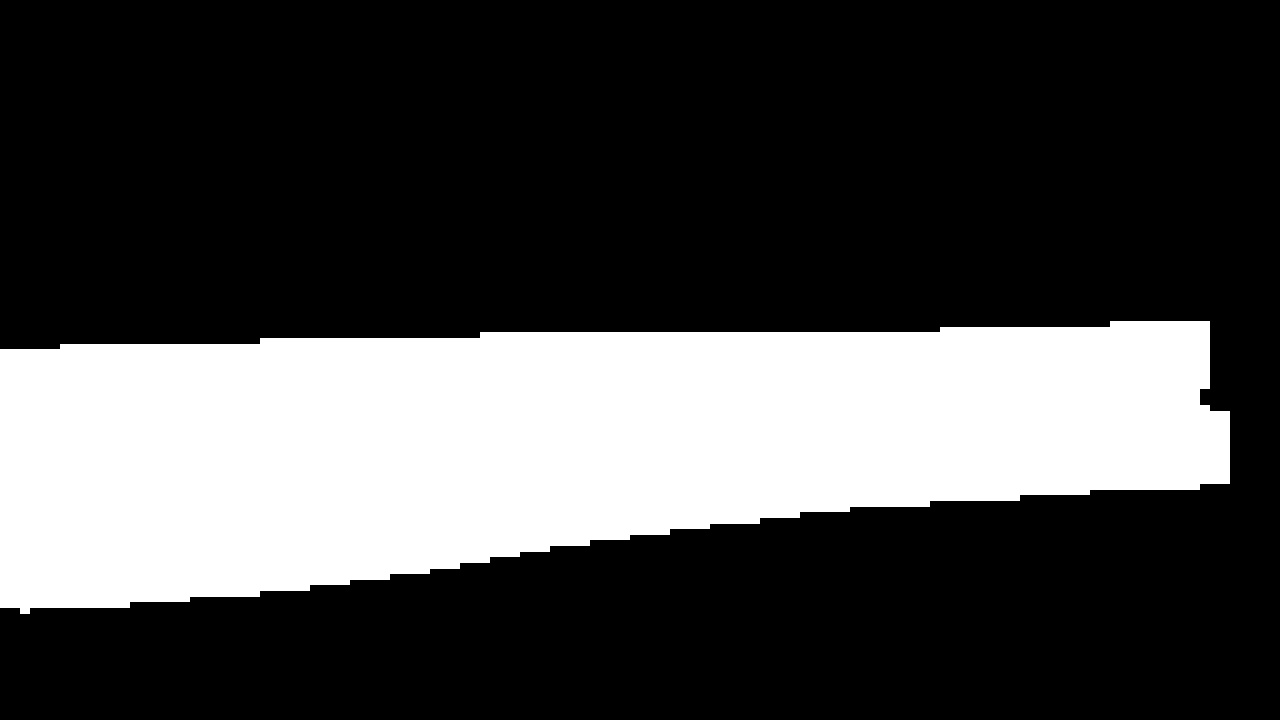Turbine: (5, 292, 1230, 633)
